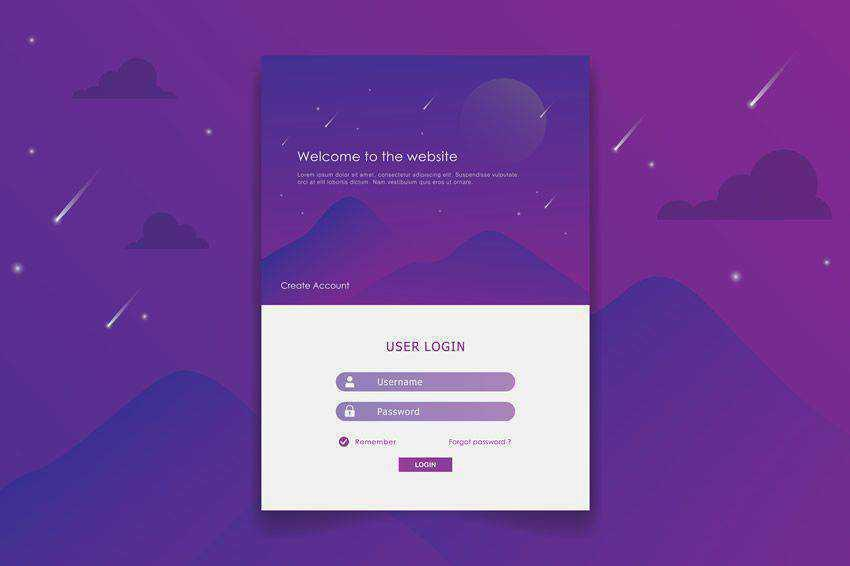button: (399, 457, 454, 474)
input: (335, 401, 517, 423), (336, 372, 516, 392)
label: (387, 342, 468, 354), (281, 282, 356, 293), (449, 438, 516, 448), (353, 437, 399, 448)
radio: (337, 436, 352, 449)
